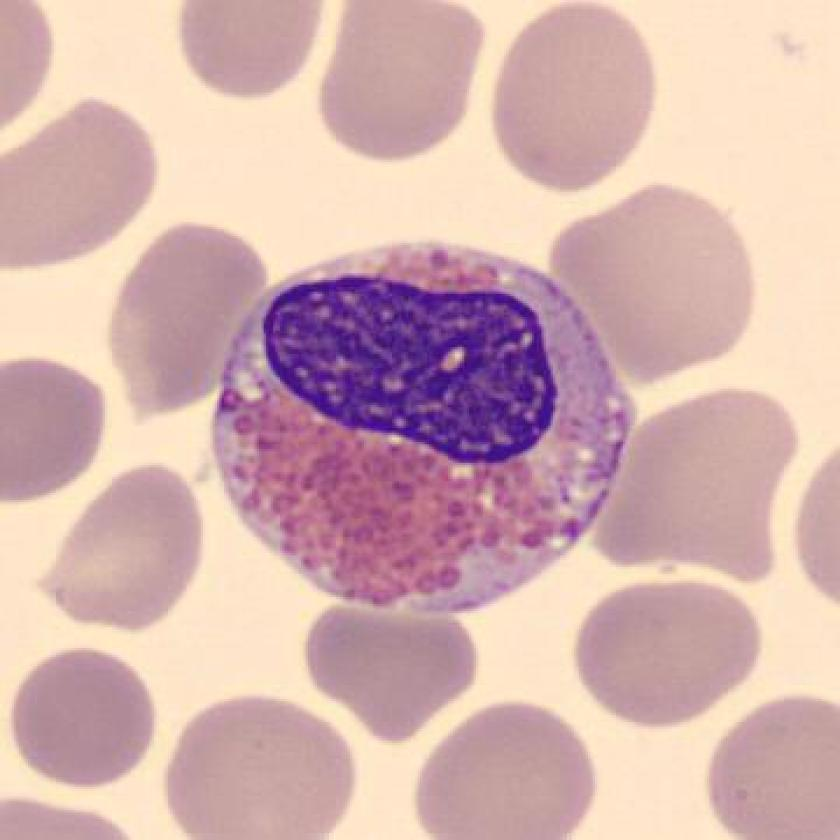eosinophil: (202, 230, 647, 633)
